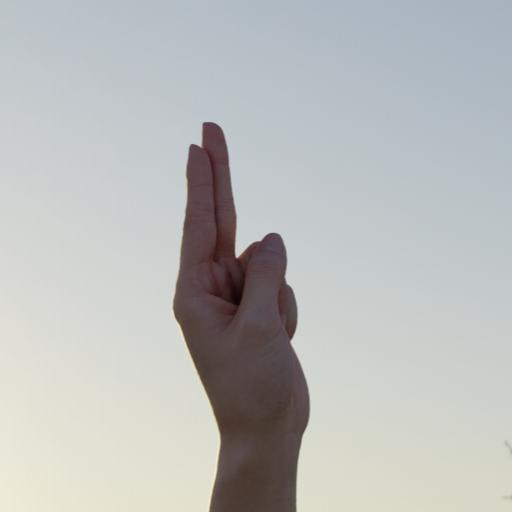U: (155, 113, 331, 512)
